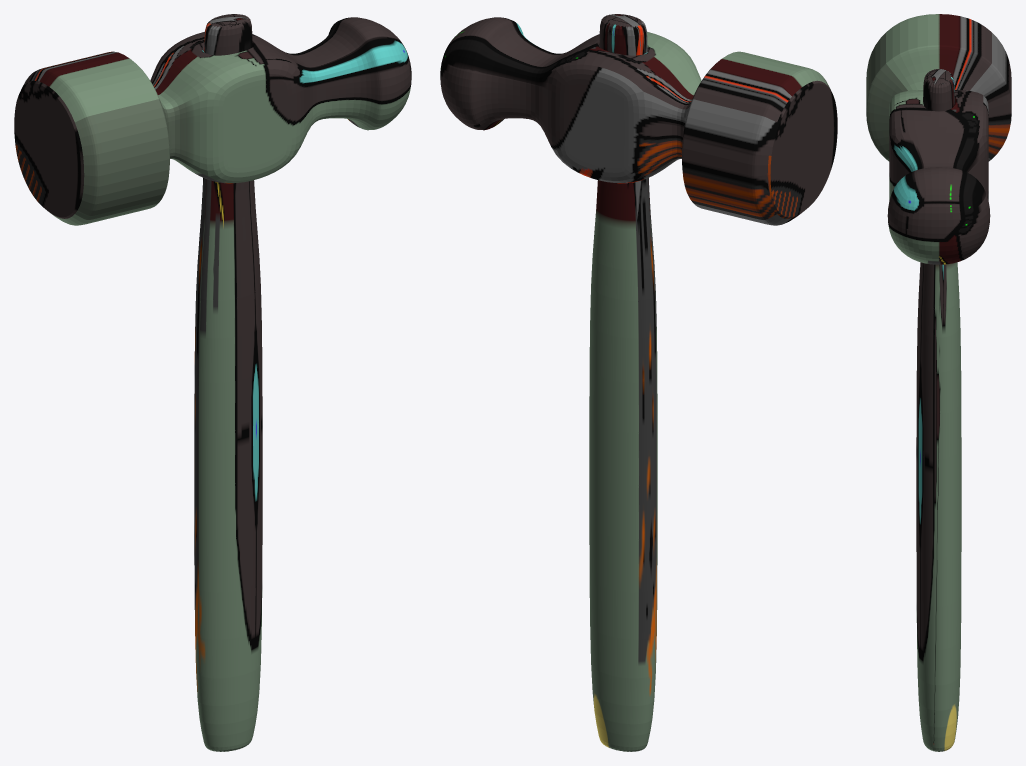
The model's file is hammer.obj.
3 renders of one model, left to right at view 1: azimuth 30°, elevation 25°; view 2: azimuth 150°, elevation 25°; view 3: azimuth 270°, elevation 25°, orthographic. The views are drawn at different scales.
Visible parts, largest first — view 1: Cube; view 2: Cube; view 3: Cube.
Boxes of the visible parts, x1,y1,x2,y2 form: Cube: (14,14,411,751); Cube: (440,14,837,751); Cube: (866,14,1011,751).
Bounding box in the file's own units: 7.57 × 14.88 × 2.93.
